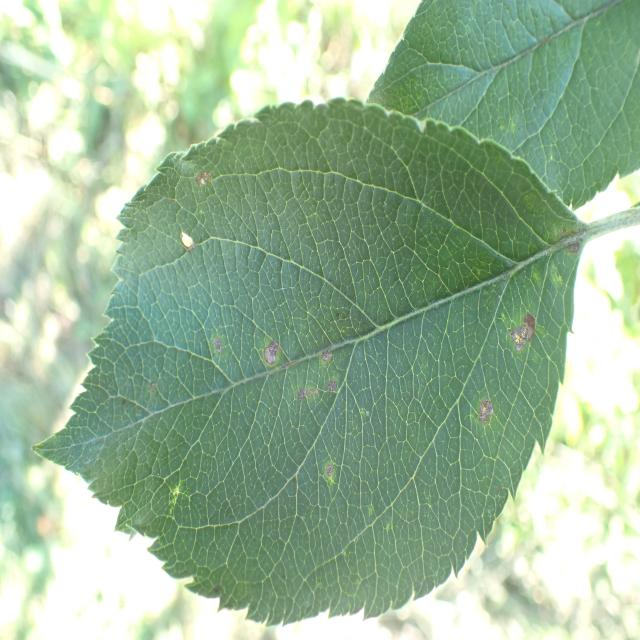frog-eye-leaf-spot: (31, 96, 584, 628)
